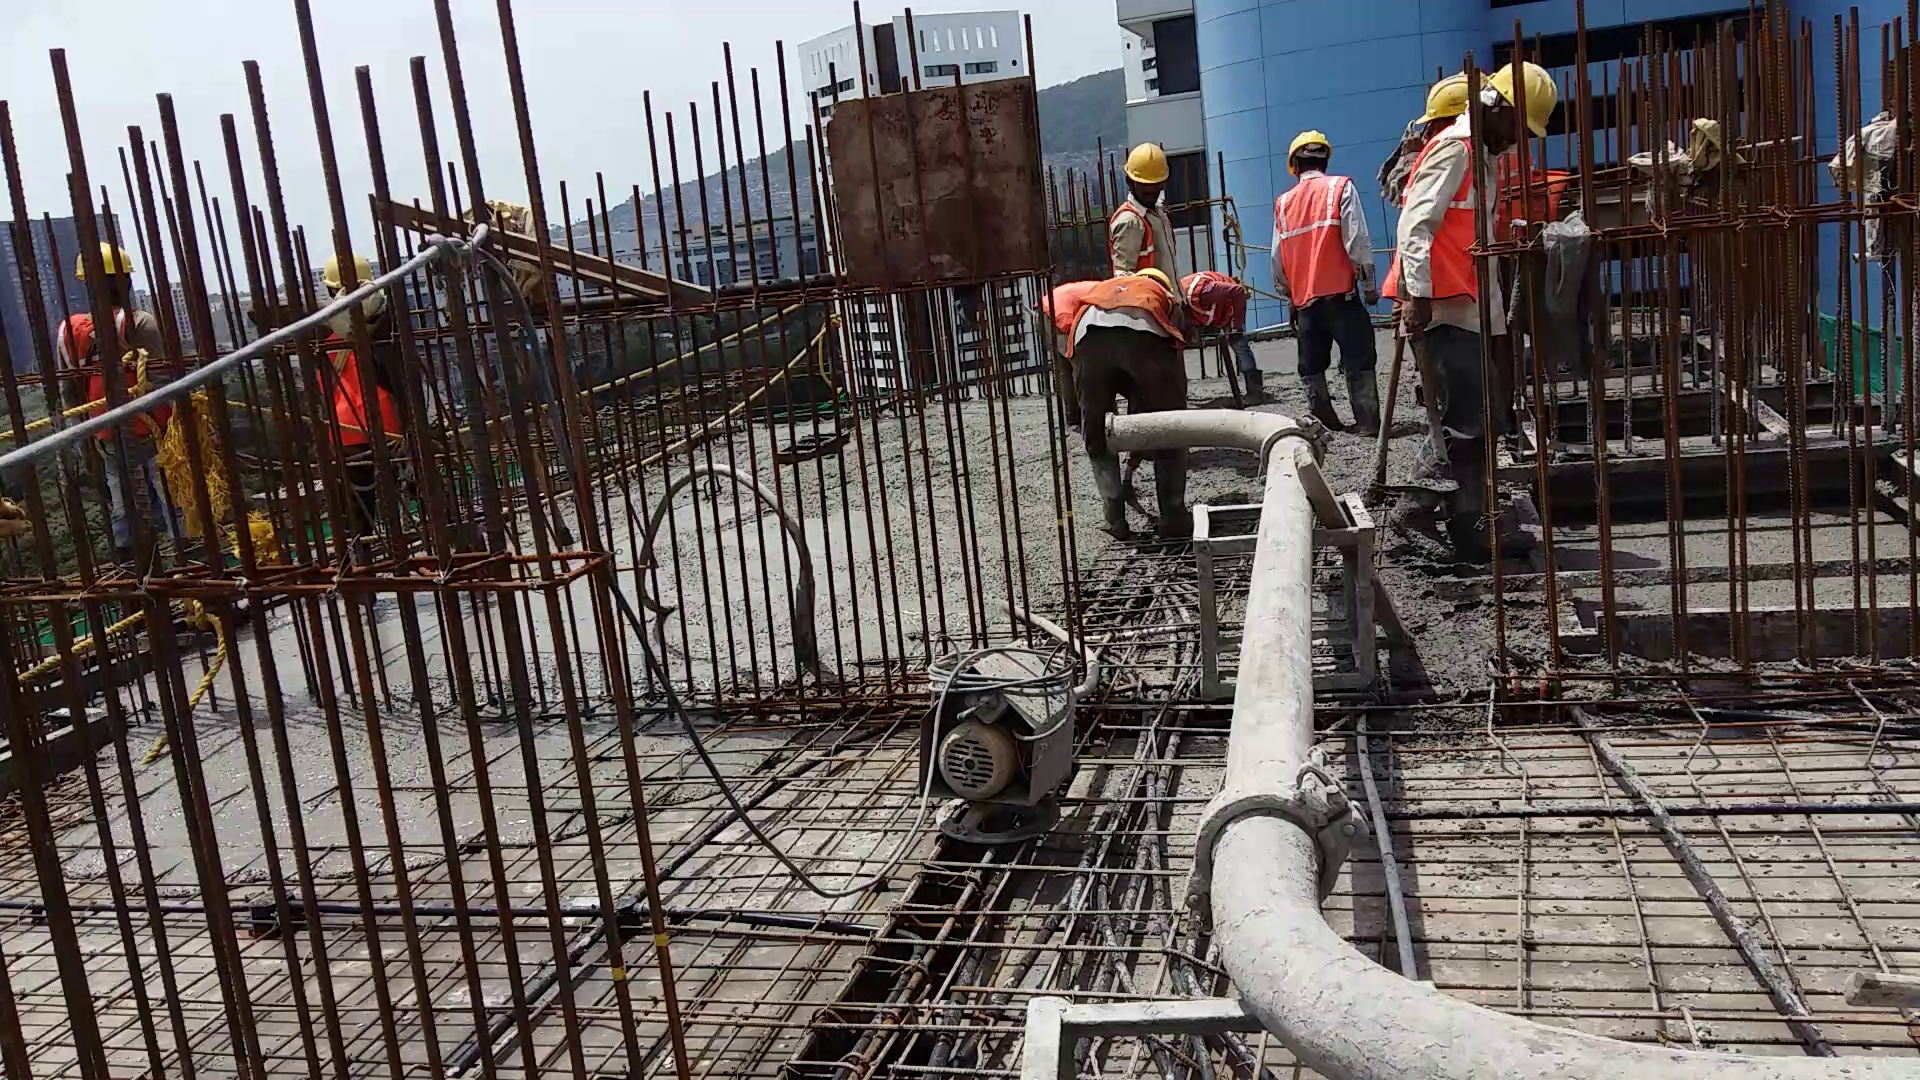SAFE: (1273, 128, 1356, 313), (1106, 135, 1174, 276)
